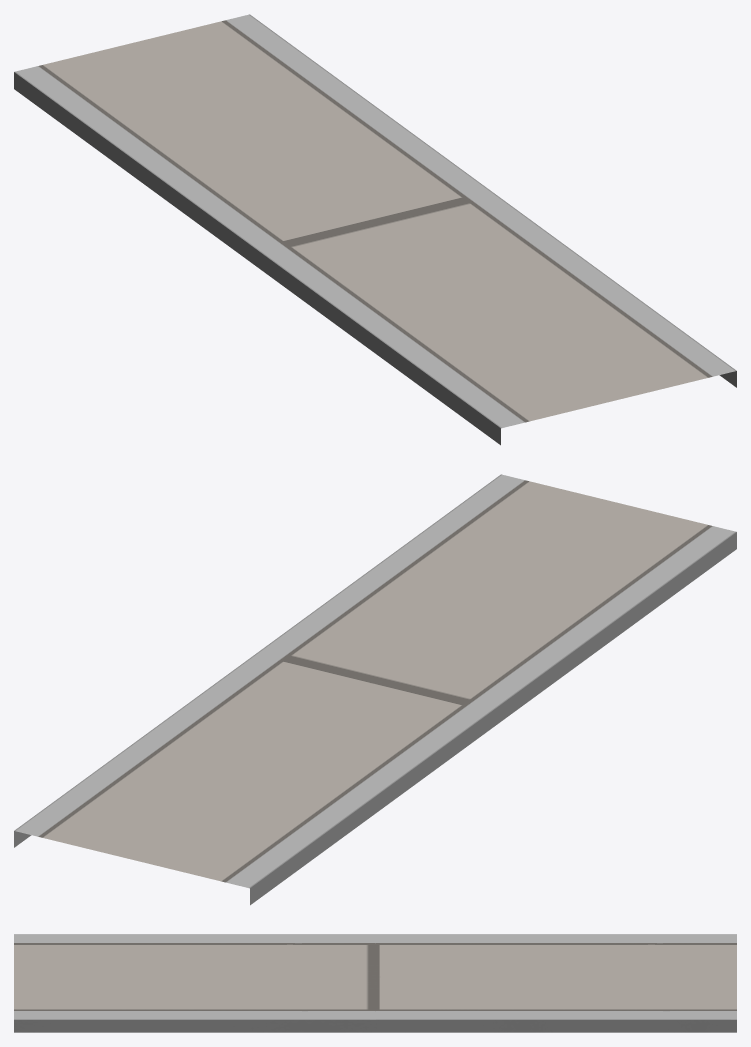
Rendered from path_straight_mesh.fbx.
3 views of the same model, one above another, from view 1: azimuth 30°, elevation 25°; view 2: azimuth 150°, elevation 25°; view 3: azimuth 270°, elevation 25° (orthographic). The views are drawn at different scales.
Visible parts, largest first — view 1: path_straight_mesh; view 2: path_straight_mesh; view 3: path_straight_mesh.
Boxes of the visible parts, x1,y1,x2,y2 form: path_straight_mesh: (14, 14, 736, 445); path_straight_mesh: (14, 474, 736, 905); path_straight_mesh: (14, 934, 736, 1032).
Size of the model in its own units: 2.8 by 0.1948 by 10.
